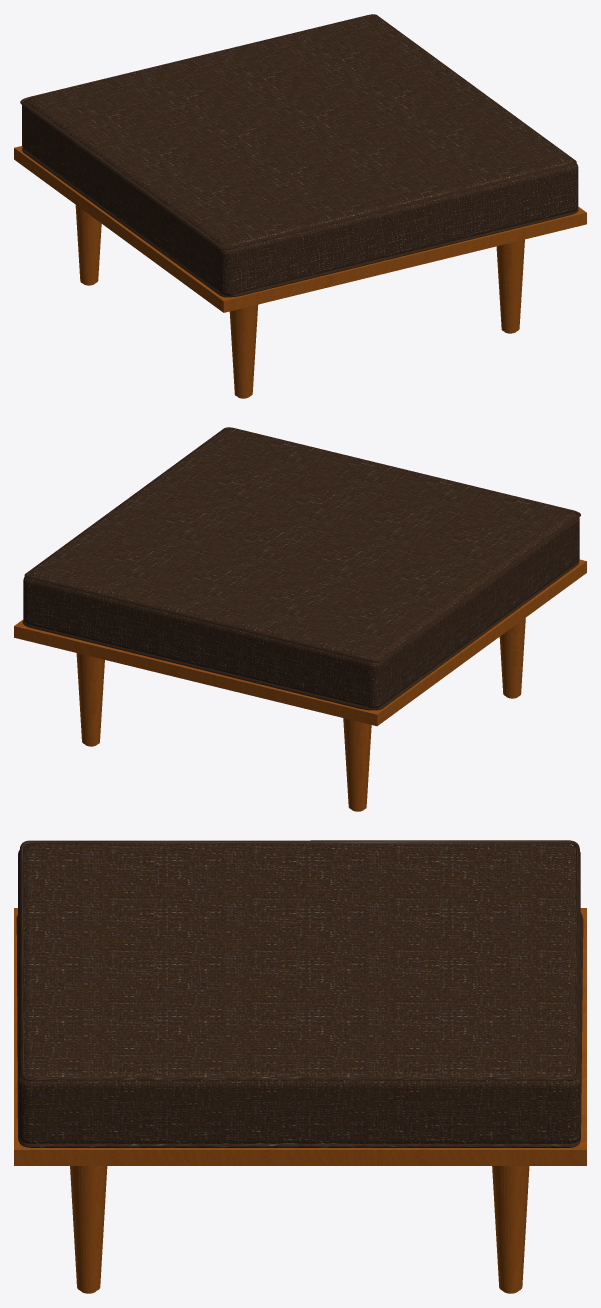
The model's file is ottoman3.glb.
3 views of the same model, one above another, from view 1: azimuth 30°, elevation 25°; view 2: azimuth 150°, elevation 25°; view 3: azimuth 270°, elevation 25° (orthographic). The views are drawn at different scales.
Visible parts, largest first — view 1: Cylinder.005, Plane.004, Cylinder.024, Cylinder.025, Cylinder.022; view 2: Cylinder.005, Plane.004, Cylinder.022, Cylinder.023, Cylinder.025; view 3: Cylinder.005, Plane.004, Cylinder.024, Cylinder.023.
Part boxes in pixels (box(x1,y1,x2,y2)): Cylinder.005: box(20, 14, 578, 297); Plane.004: box(14, 146, 586, 312); Cylinder.024: box(496, 239, 524, 333); Cylinder.025: box(229, 304, 257, 398); Cylinder.022: box(75, 205, 101, 285); Cylinder.005: box(22, 427, 580, 710); Plane.004: box(14, 559, 586, 726); Cylinder.022: box(343, 718, 371, 811); Cylinder.023: box(76, 653, 104, 746); Cylinder.025: box(499, 618, 525, 698); Cylinder.005: box(16, 840, 583, 1147); Plane.004: box(14, 908, 586, 1165); Cylinder.024: box(70, 1166, 107, 1293); Cylinder.023: box(492, 1166, 529, 1293).
Bounding box in the file's own units: 0.762 × 0.3564 × 0.762.
2 materials, 2 textured.
